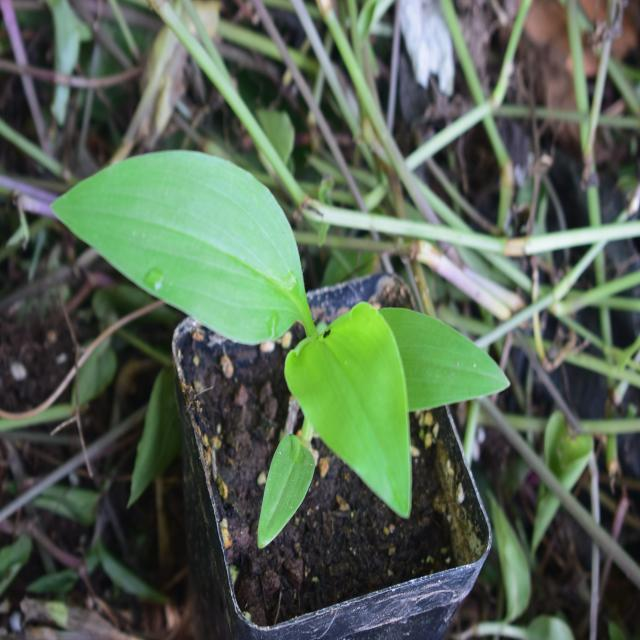Common Dayflower: (46, 139, 495, 514)
